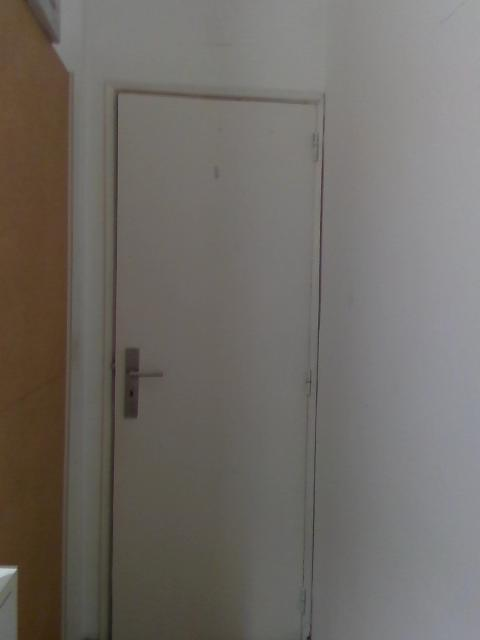door: (113, 94, 316, 640)
